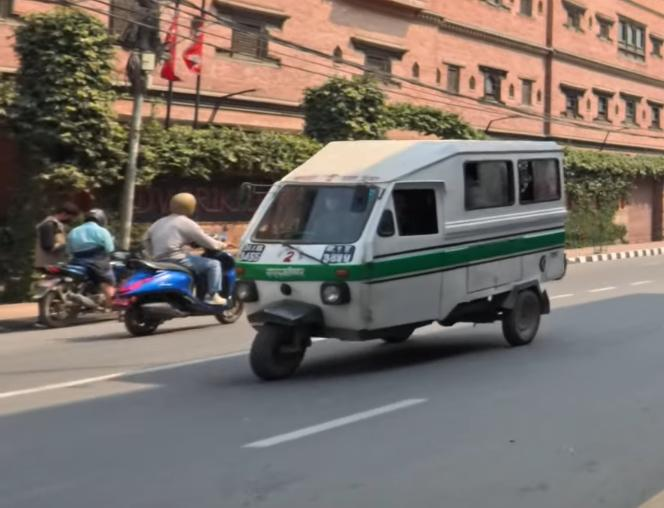bike: (29, 245, 130, 328)
scooter: (116, 236, 250, 339)
tempo: (233, 133, 577, 388)
